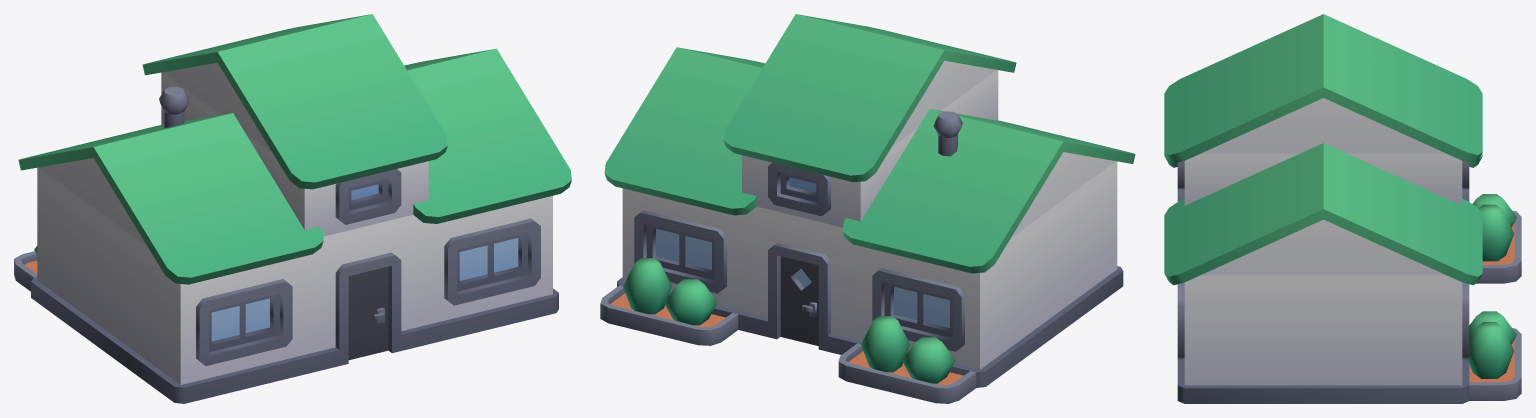
The model's file is villa.glb.
The picture shows the model from 3 angles, left to right: view 1: azimuth 30°, elevation 25°; view 2: azimuth 150°, elevation 25°; view 3: azimuth 270°, elevation 25°; orthographic projection. The views are drawn at different scales.
Visible parts, largest first — view 1: building-type-a; view 2: building-type-a; view 3: building-type-a.
Boxes of the visible parts, x1=… form: building-type-a: x1=14, y1=14, x2=571, y2=403; building-type-a: x1=600, y1=14, x2=1135, y2=403; building-type-a: x1=1164, y1=14, x2=1521, y2=403.
Bounding box in the file's own units: 1.3 × 0.8336 × 1.03.
1 material, 1 textured.
